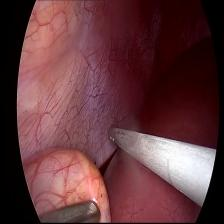Grasper: (35, 197, 103, 224)
Irrigator: (107, 123, 122, 150)
